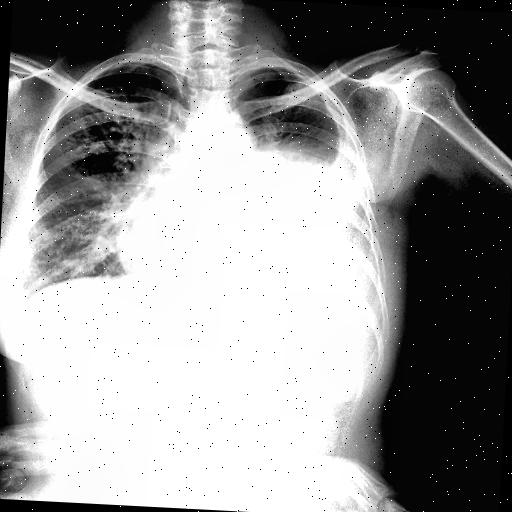10- Pleural effusion: (236, 92, 381, 316), (232, 90, 384, 290), (216, 136, 382, 292)
6- Infiltration: (23, 178, 147, 301), (272, 130, 338, 169)
7- Lung Opacity: (23, 178, 147, 301), (272, 130, 338, 169)
